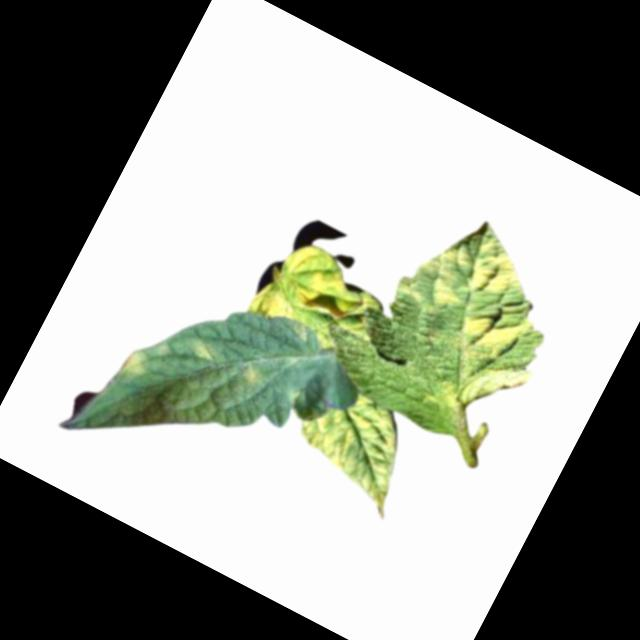Leaf_Mold: (359, 196, 587, 427), (277, 375, 428, 519), (269, 235, 375, 328), (241, 276, 299, 331), (114, 342, 158, 386), (180, 329, 227, 370), (233, 357, 268, 391)
